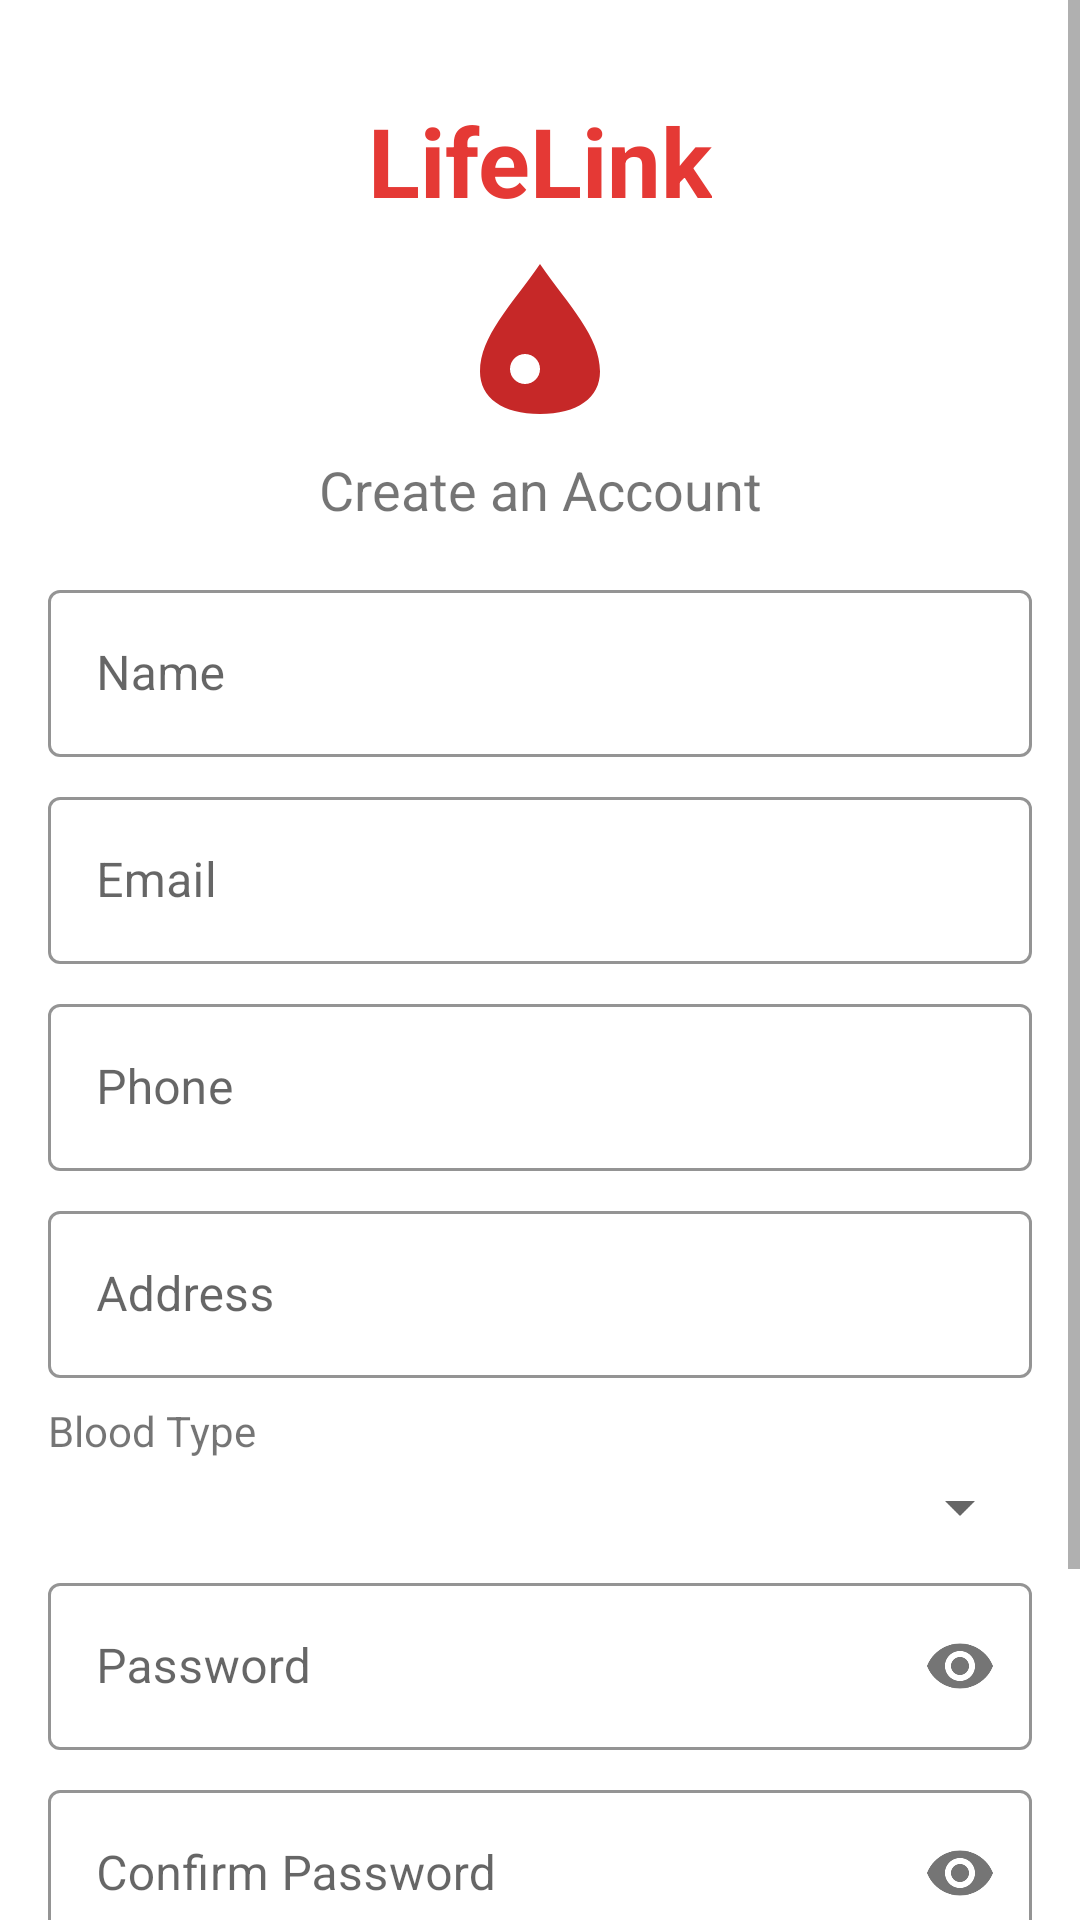

Where to tap for icons on this 1080*1920 app screen, as (x,y):
blood drop: (540,339)
